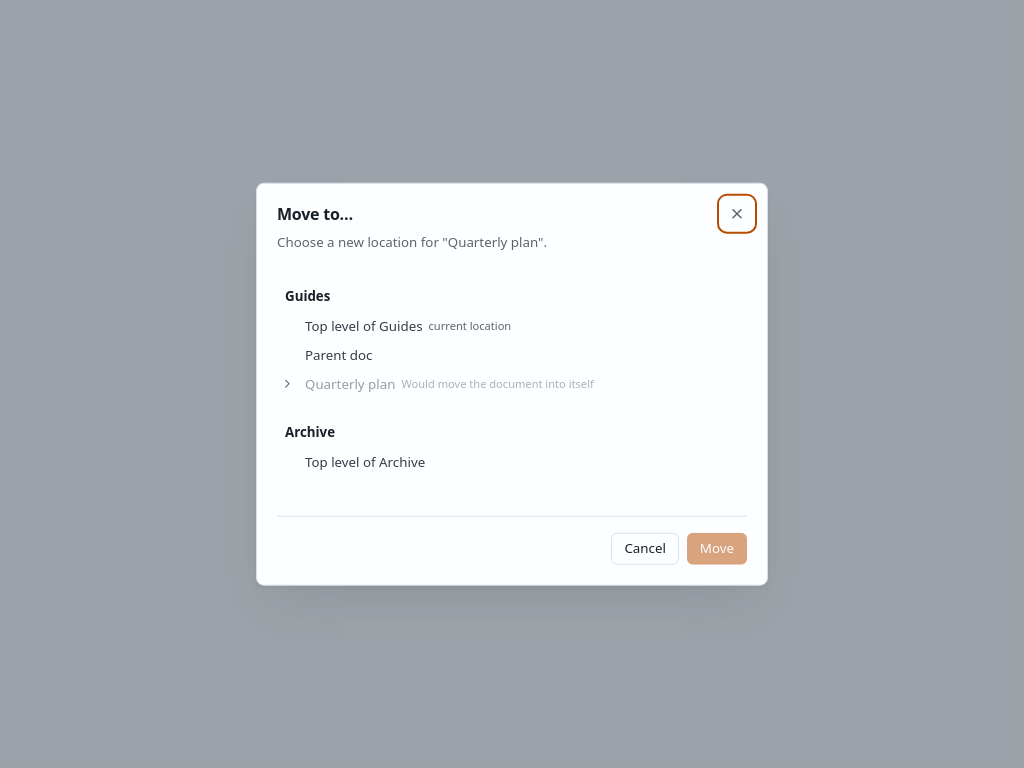
Test: MoveDocumentDialog › shows the server’s 403/422 message inline and keeps the dialog open
This screenshot has width=1024, height=768.
Click the button "Parent doc": (339, 354) [299, 340, 747, 368]
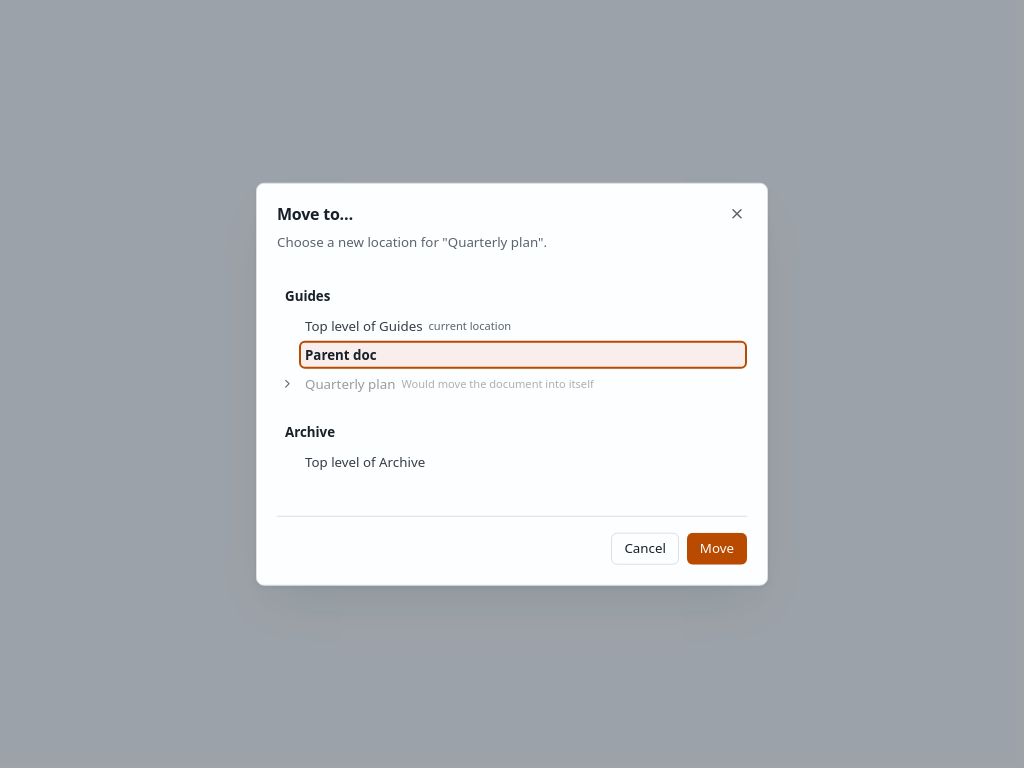
Click the button "Move": (717, 548) [687, 532, 747, 564]
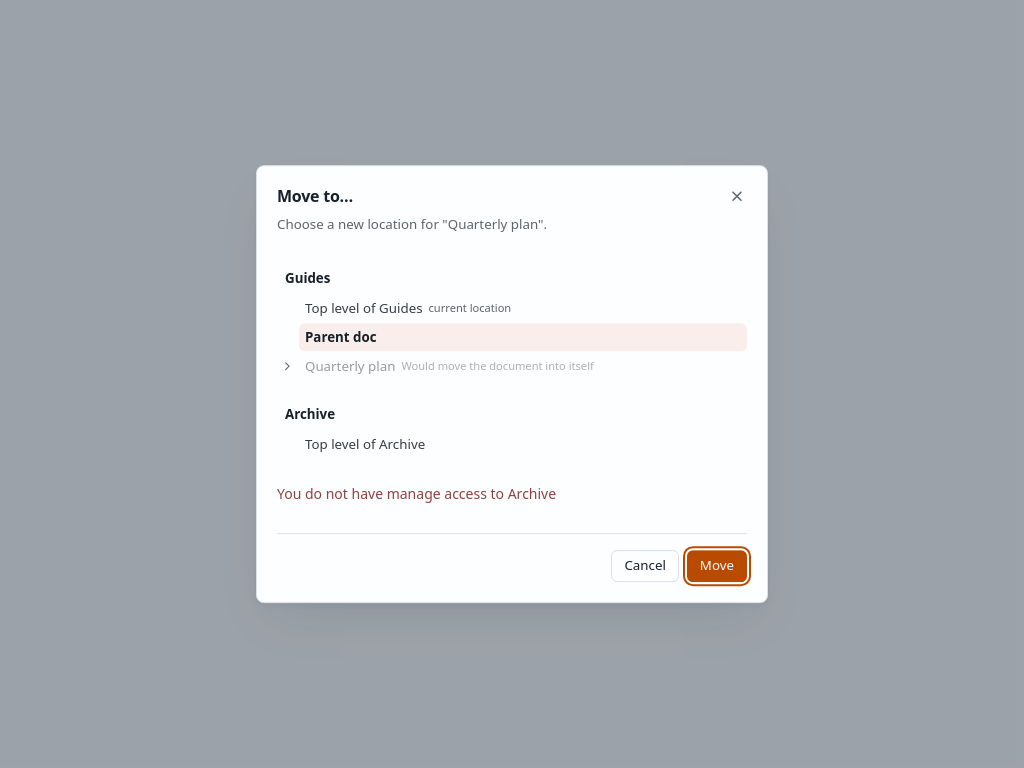
Expected: the dialog "Move to…" is shown, [256, 165, 768, 603]
Now the message reads "You do not have manage access to Archive", box [277, 484, 556, 503]
